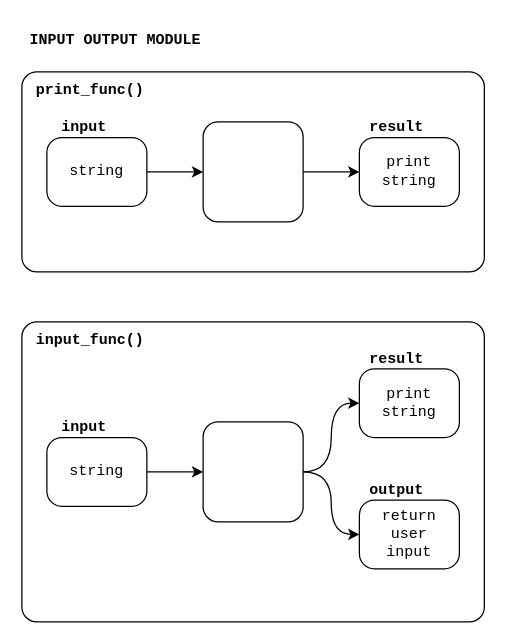
This 506x644 diagram has some shape labels left out. Here are the shapes that lost their labels. From the top down, the centre of each, then its label:
At (x=252, y=171): "print code".
At (x=252, y=471): "print code & input code".
